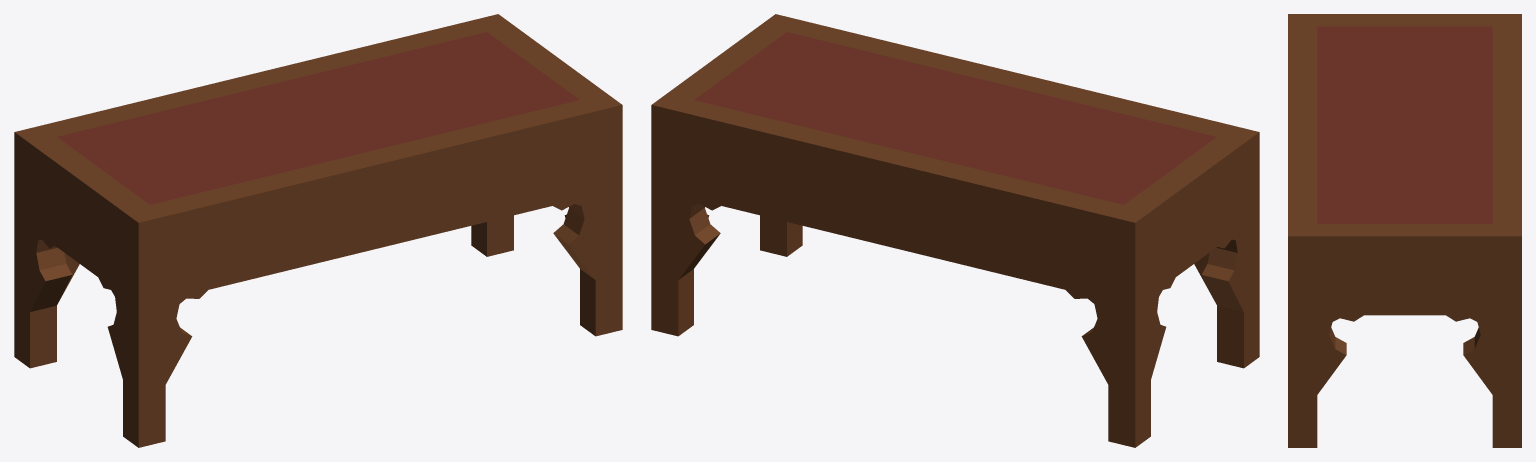
File: Table-v2.fbx
3 views of the same model, side by side, from view 1: azimuth 30°, elevation 25°; view 2: azimuth 150°, elevation 25°; view 3: azimuth 270°, elevation 25° (orthographic). The views are drawn at different scales.
Parts seen in each view (by area): view 1: Table2; view 2: Table2; view 3: Table2.
Part boxes in pixels (x1,y1,x2,y2): Table2: (14,14,622,447); Table2: (651,14,1259,447); Table2: (1288,14,1521,447).
Bounding box in the file's own units: 360 × 160 × 160.
